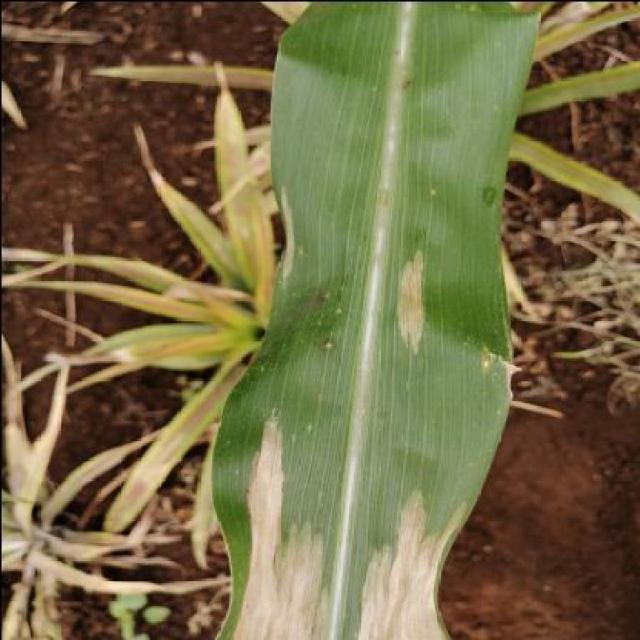Corn_Leaf_Blight: (212, 0, 528, 640)
